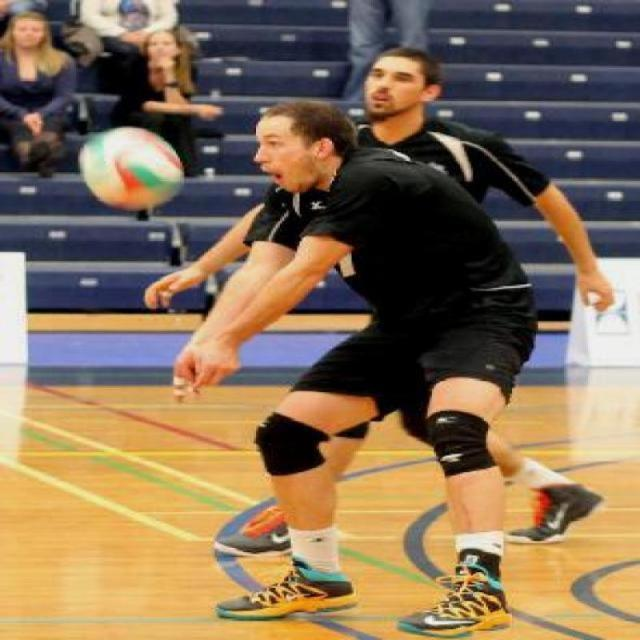volleyball: (68, 116, 192, 218)
